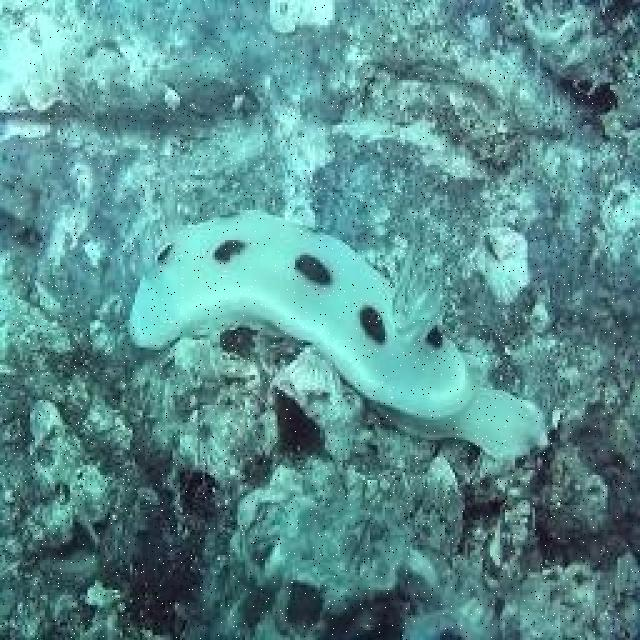reefs: (127, 216, 546, 458)
